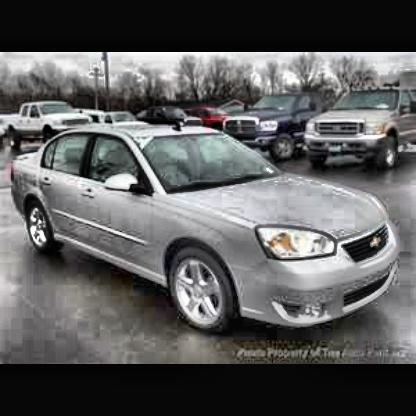Chevrolet Malibu Sedan 2007: (12, 97, 415, 357)
